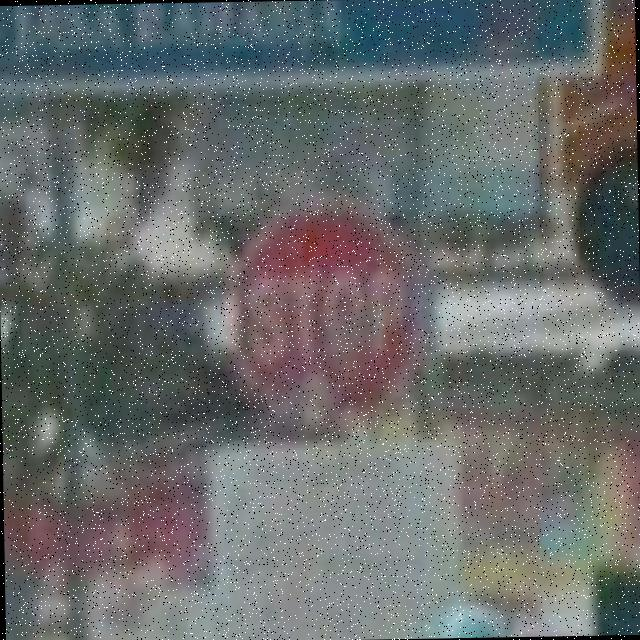Stop: (244, 196, 428, 408)
